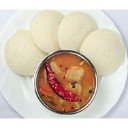idly: (81, 27, 124, 73), (57, 8, 98, 51), (31, 9, 68, 54), (6, 29, 39, 77)
